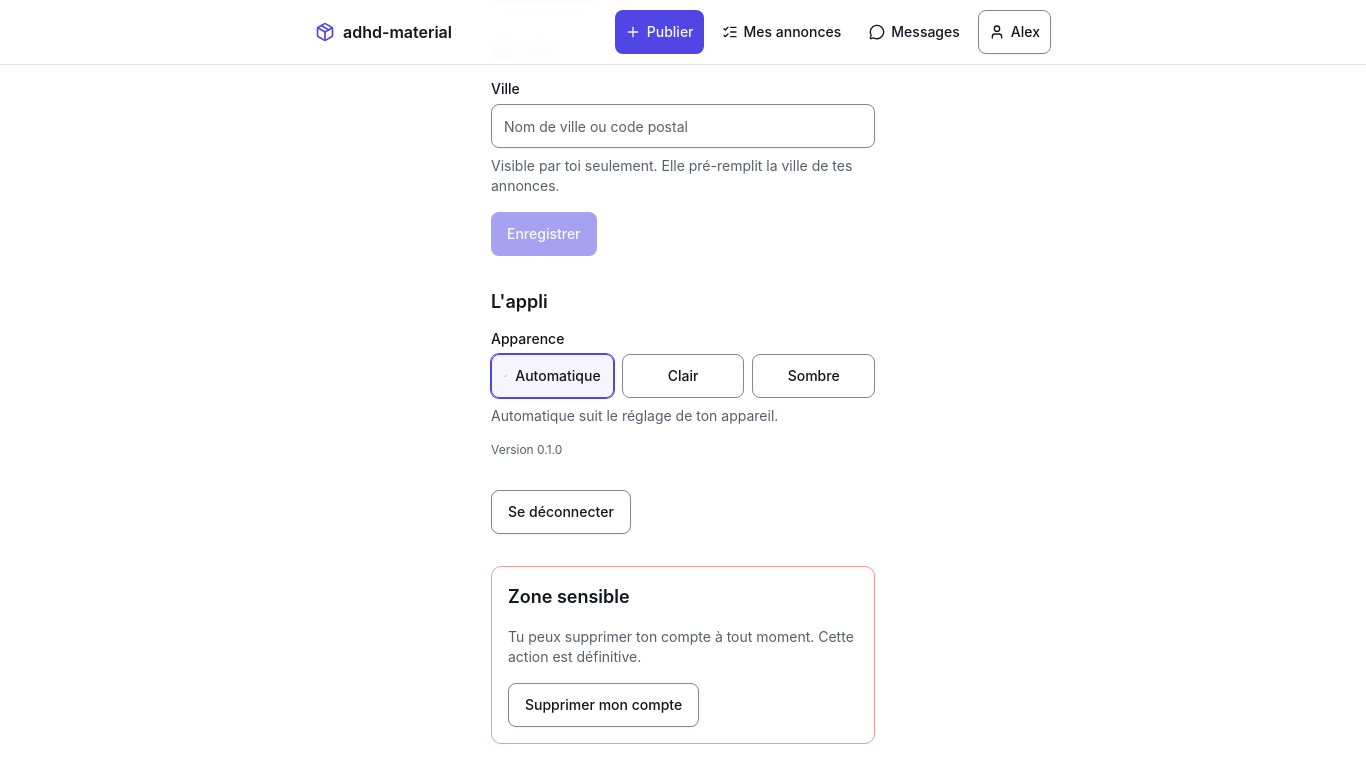
it: flux email désactivé (Google uniquement) › compte sans identité Google : message clair, aucun parcours impossible
The image size is (1366, 768).
(page scrolled)
Click the button "Supprimer mon compte" at point(604, 705), box [508,683,699,727]
(page scrolled)
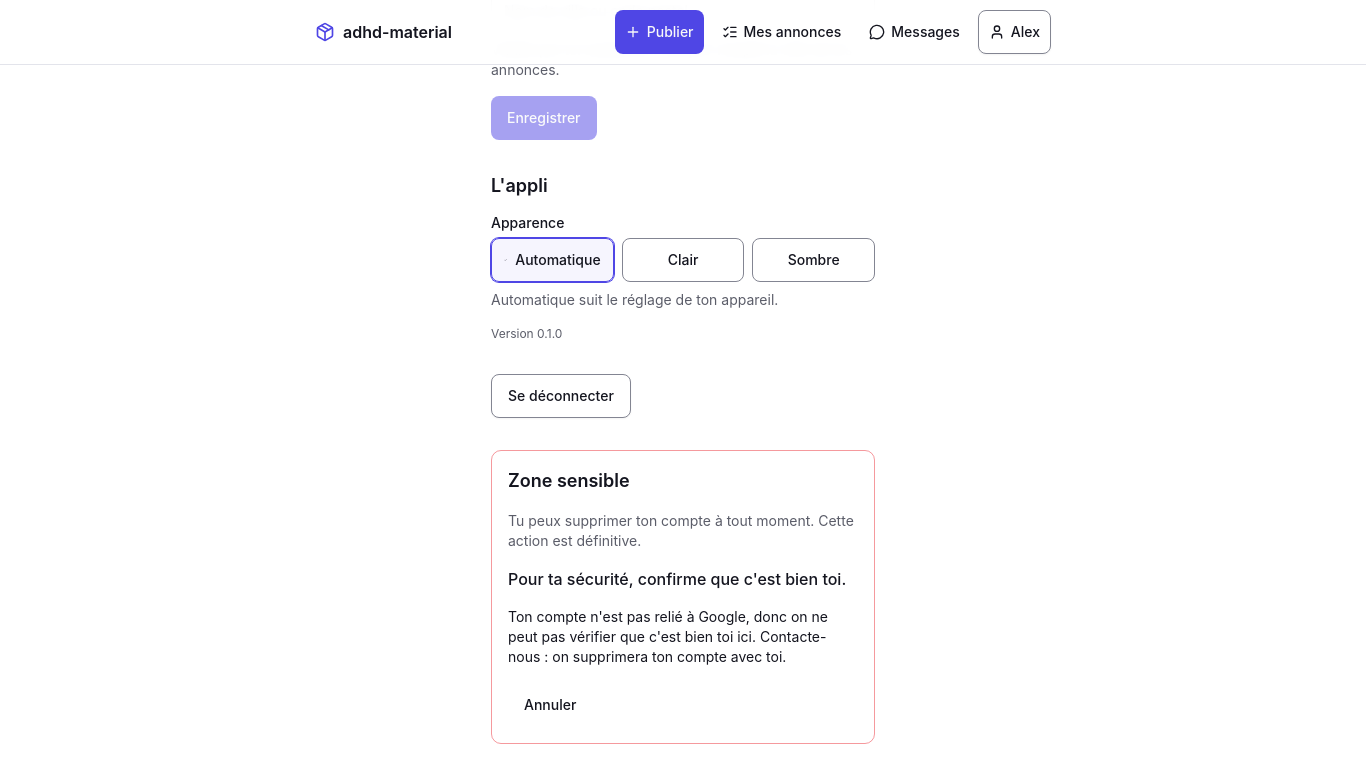
Expected: the text "Contacte-nous" is shown, [508,608,828,665]
